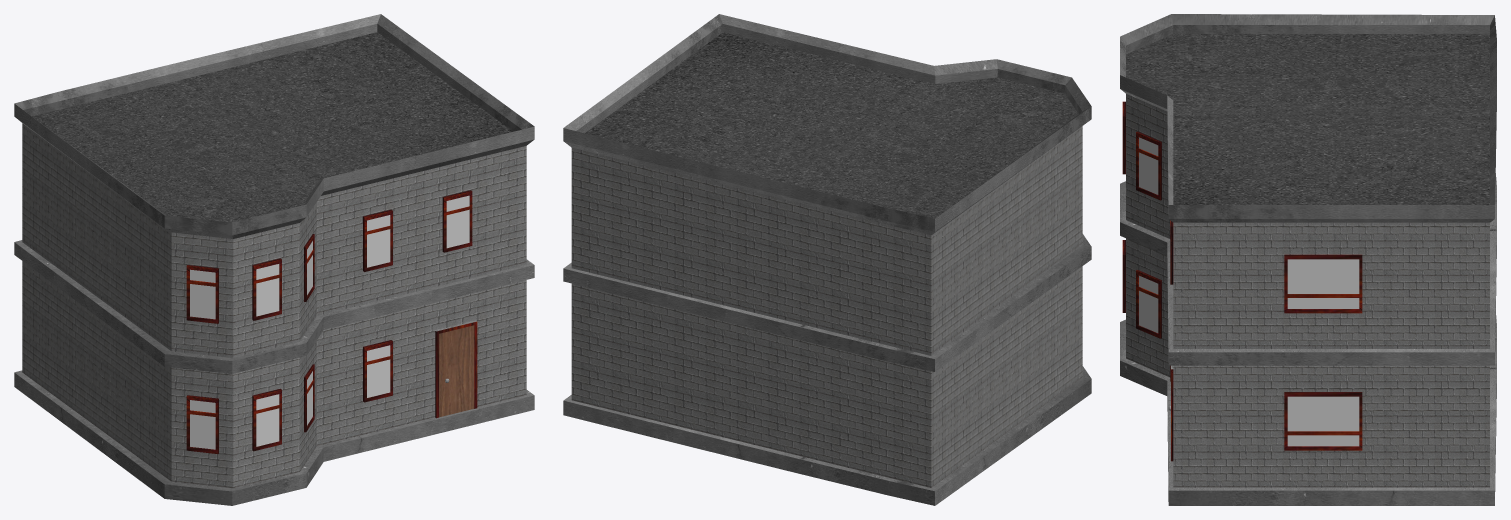
File: OLD_HOUSE_04.fbx
The picture shows the model from 3 angles, left to right: view 1: azimuth 30°, elevation 25°; view 2: azimuth 150°, elevation 25°; view 3: azimuth 270°, elevation 25°; orthographic projection. The views are drawn at different scales.
Parts seen in each view (by area): view 1: OLD_HOUSE_04; view 2: OLD_HOUSE_04; view 3: OLD_HOUSE_04.
Boxes of the visible parts, <box> form: OLD_HOUSE_04: <box>14,14,534,505</box>; OLD_HOUSE_04: <box>563,14,1091,505</box>; OLD_HOUSE_04: <box>1120,14,1496,505</box>.
Size of the model in its own units: 1000 by 735 by 834.
